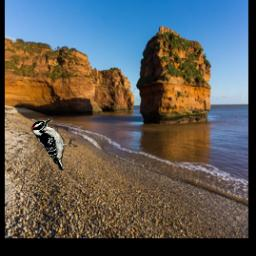Woodpecker: (30, 119, 78, 171)
